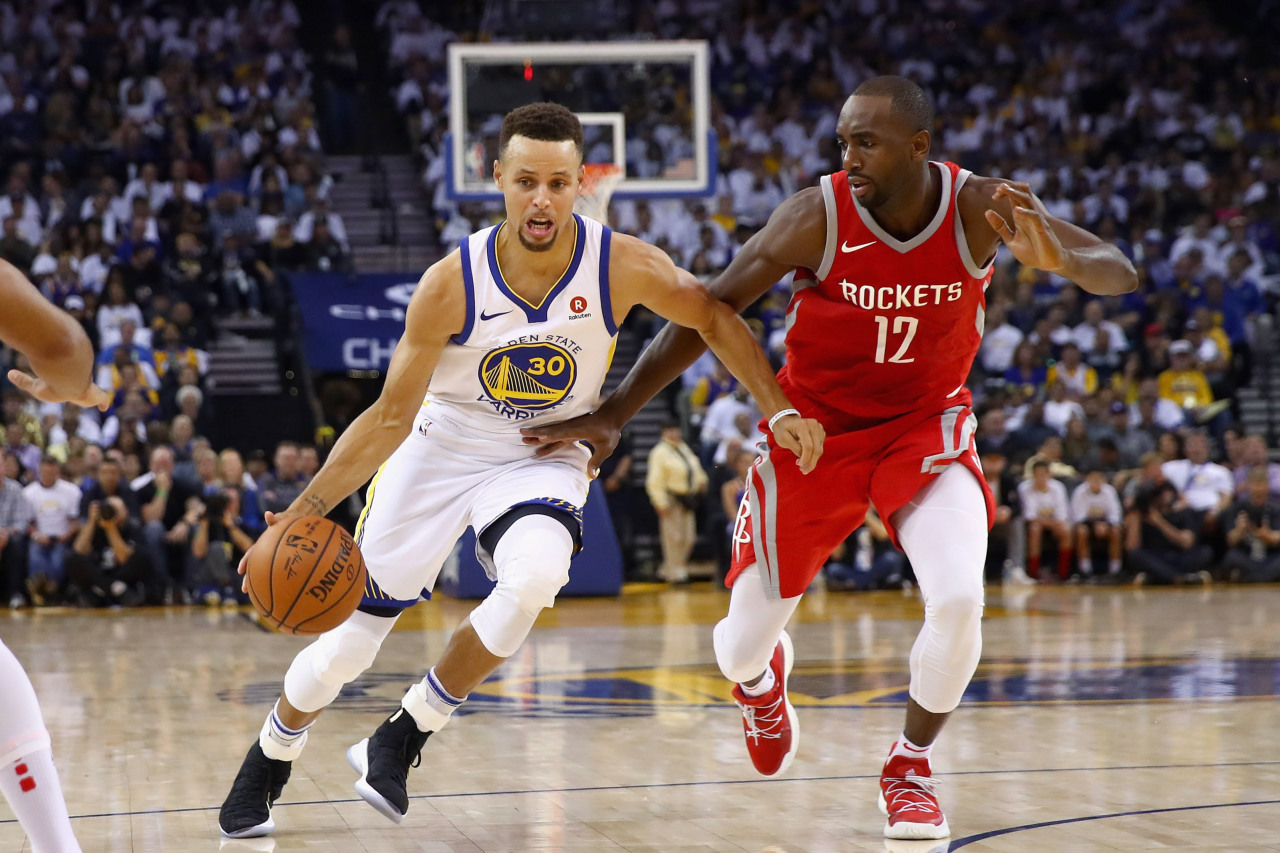ball: (223, 490, 381, 646)
breakthrough: (227, 81, 769, 853)
defense: (715, 66, 1144, 853)
